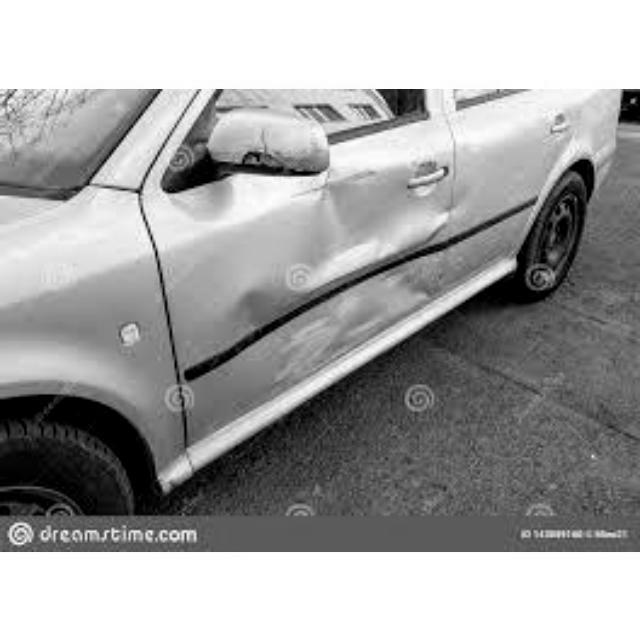doorouter-dent: (171, 123, 454, 416)
